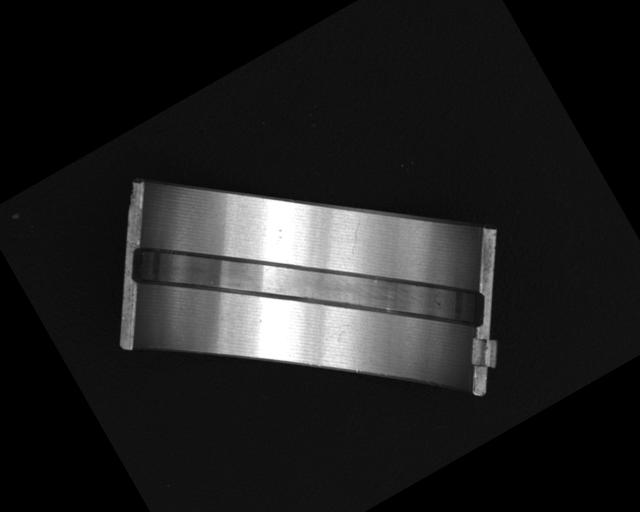gap: (120, 110, 493, 462)
nick: (338, 219, 372, 256)
